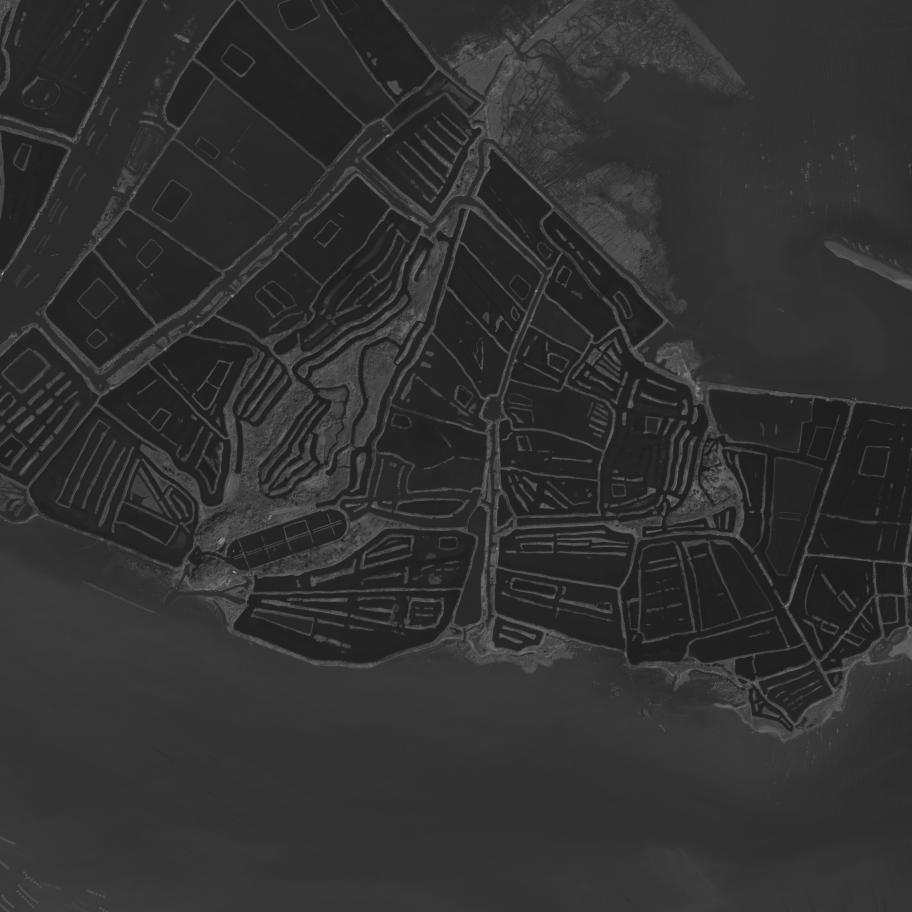ship: (749, 730, 761, 736), (781, 309, 785, 312), (724, 900, 727, 903), (590, 886, 594, 888)
